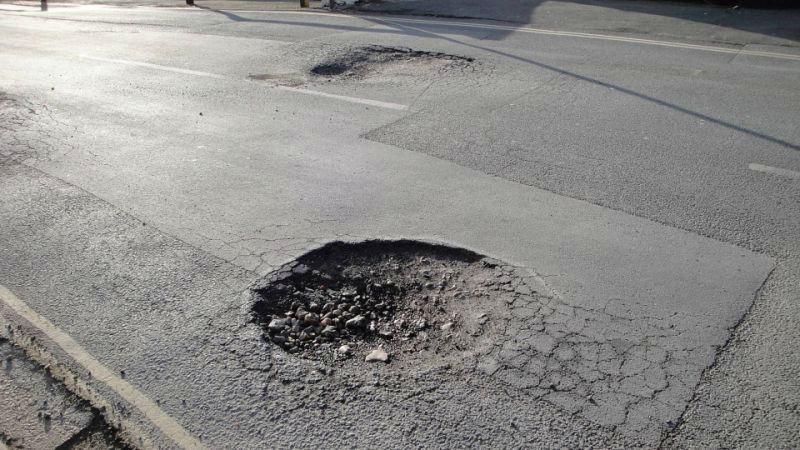pothole: (213, 215, 540, 394), (290, 34, 481, 92)
